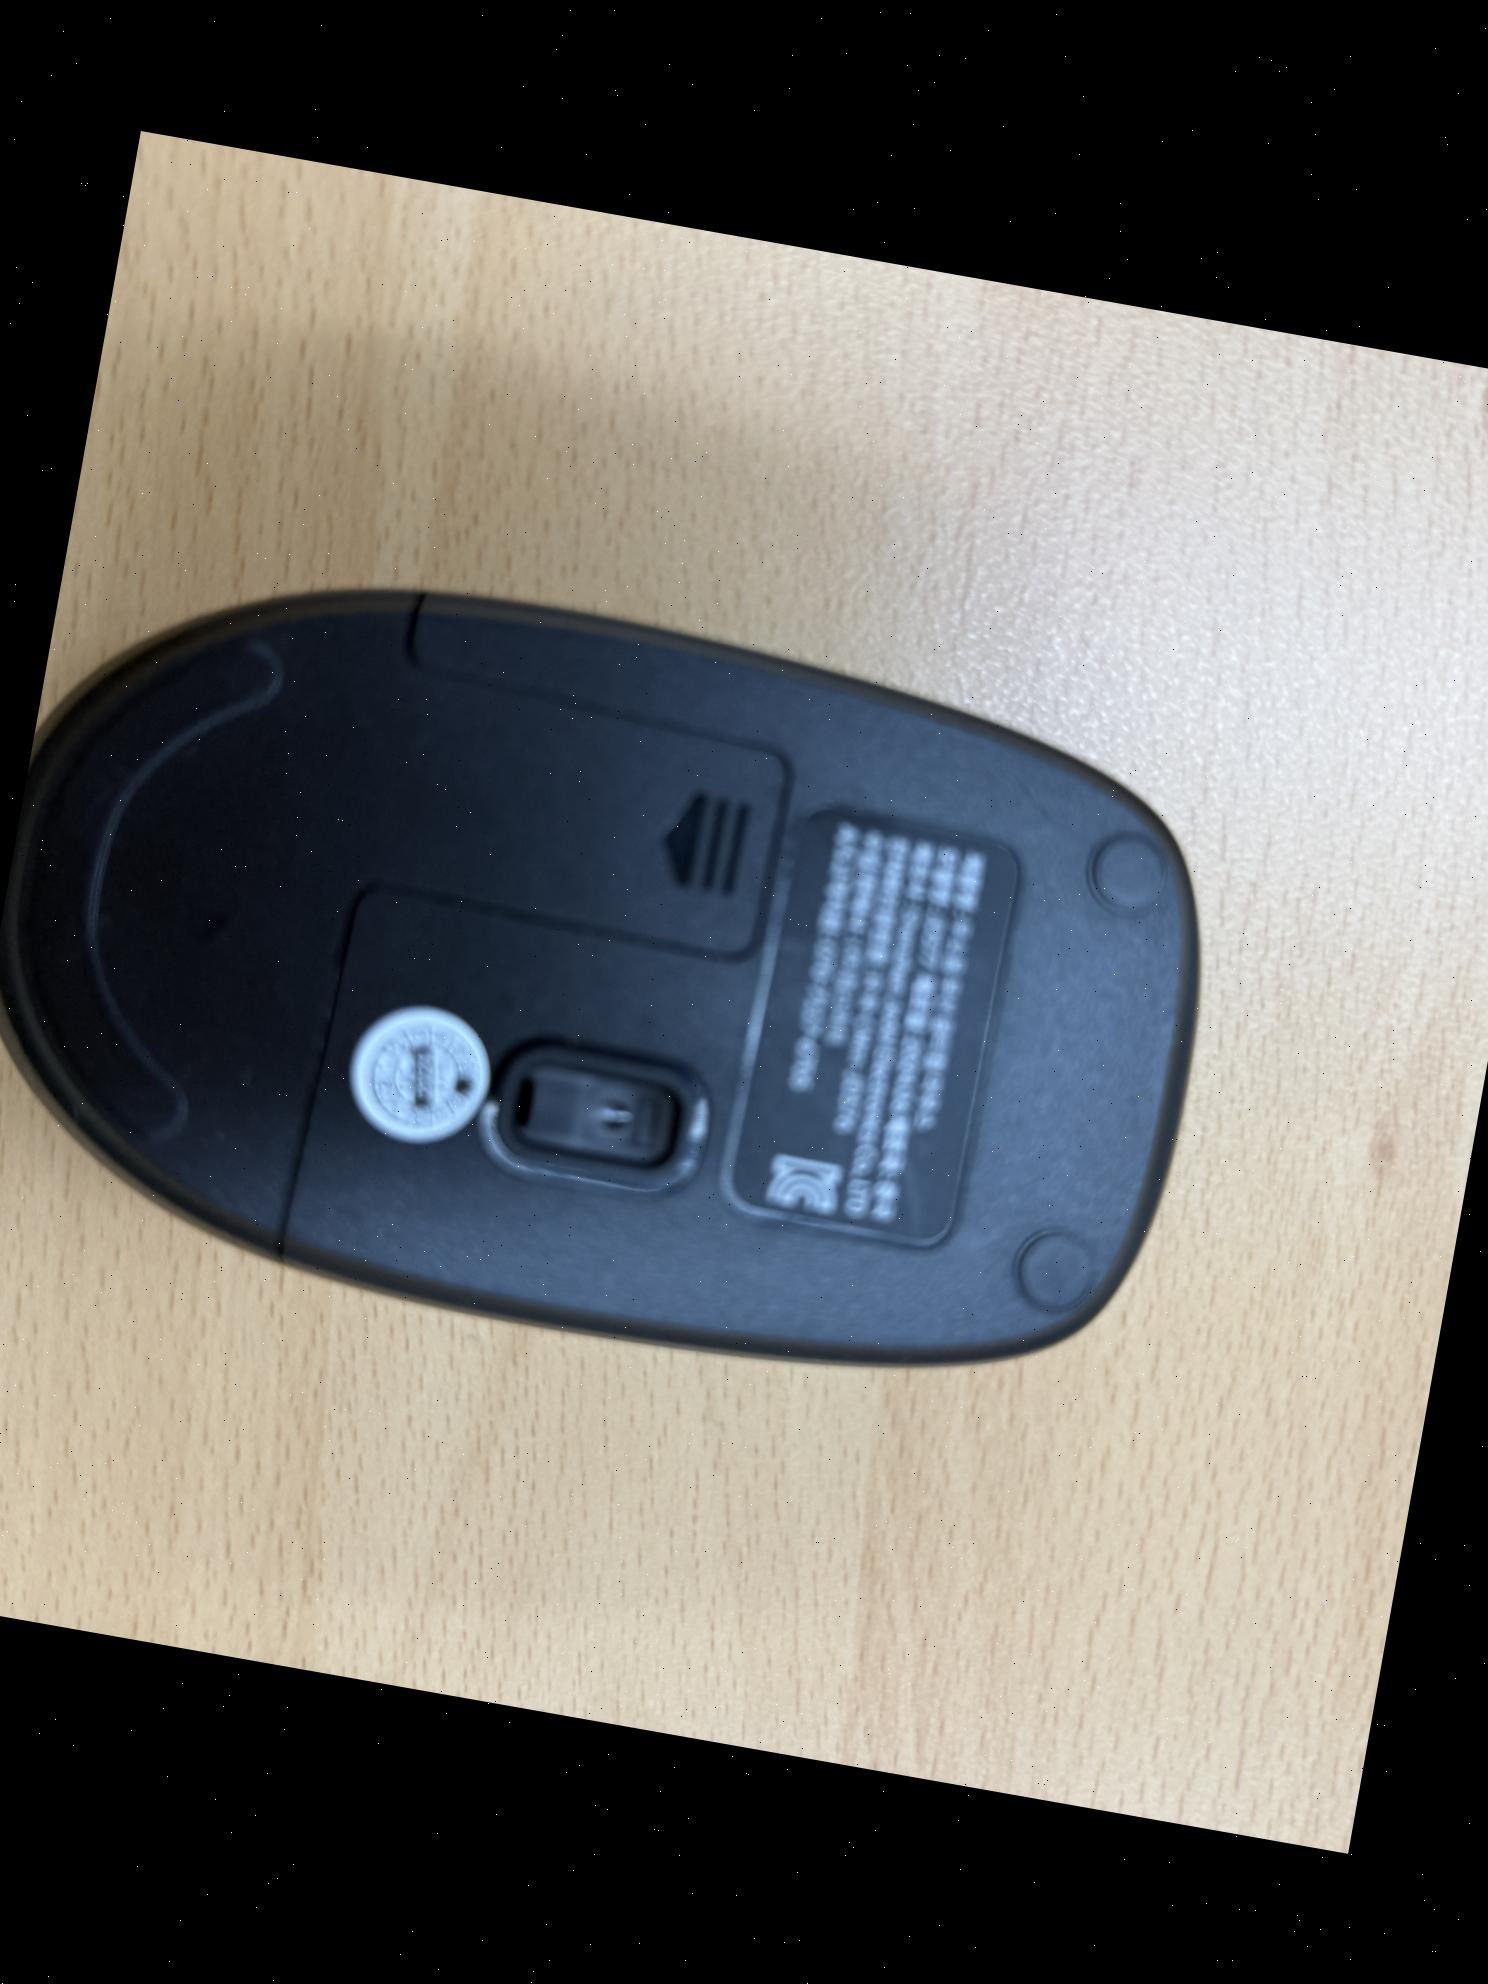back: (0, 509, 1268, 1437)
